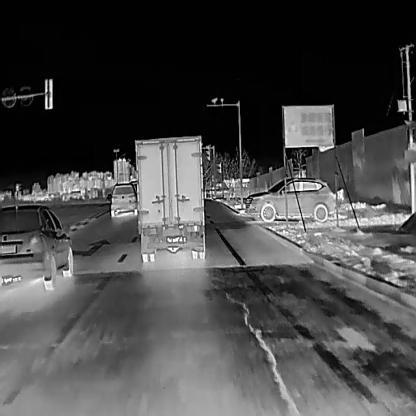car: (133, 134, 207, 263), (0, 203, 72, 289), (244, 176, 335, 223), (109, 181, 138, 216)
